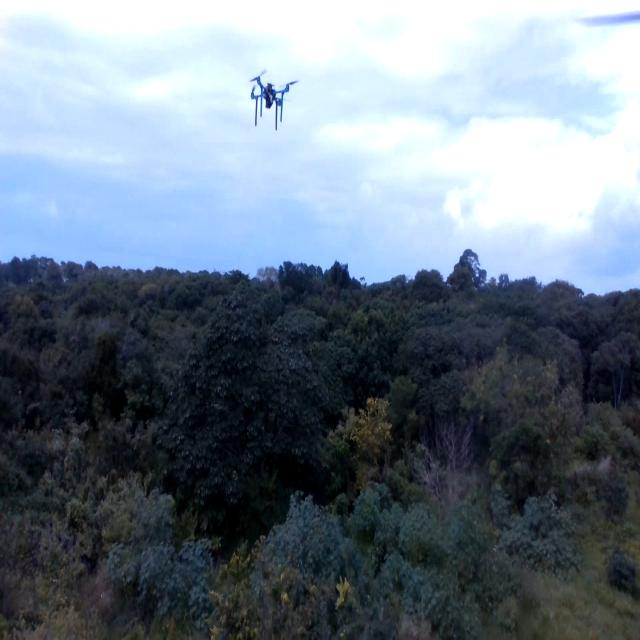-uav-: (241, 61, 303, 135)
